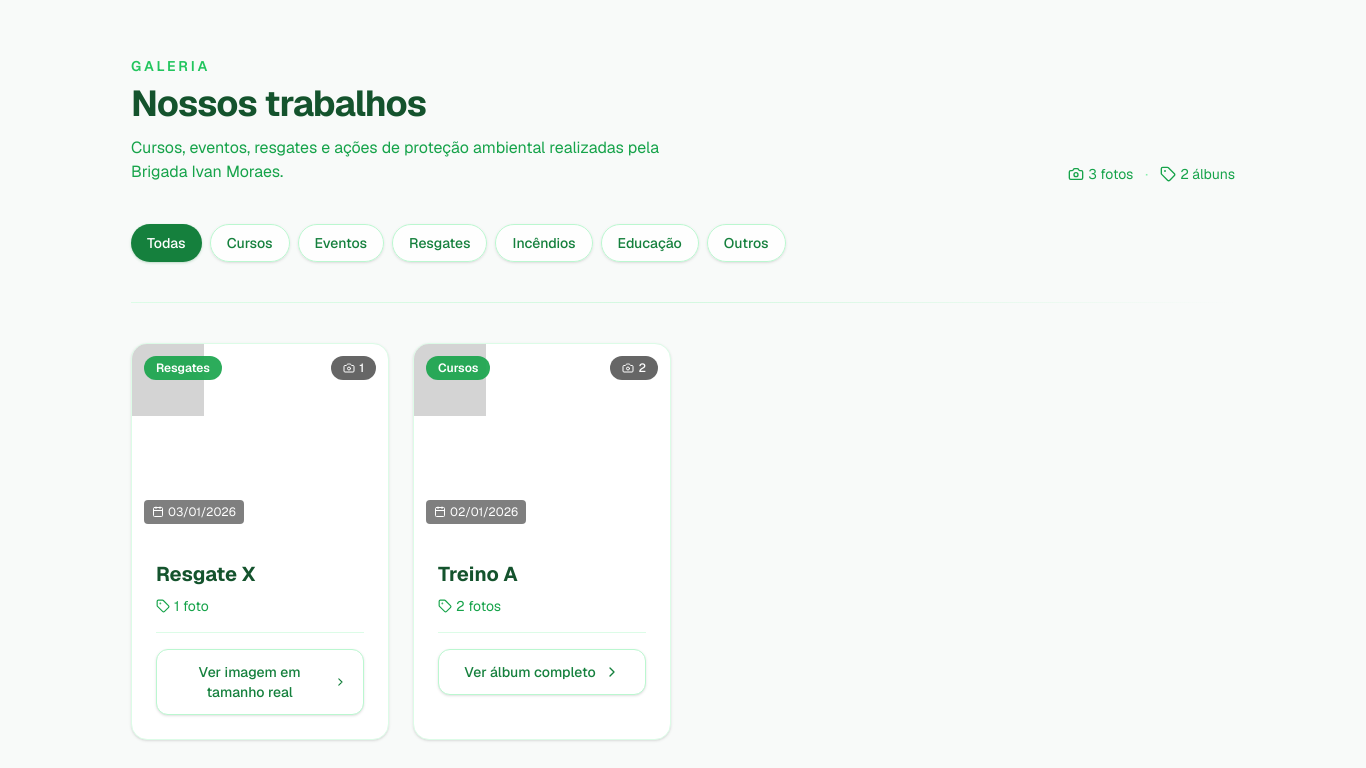
Test: Gallery › atualiza fotos e álbuns ao filtrar por categoria
Expected: the heading "Treino A" is shown, [438,561,518,587]
Click the button "Cursos": (250, 243) [210,224,290,262]
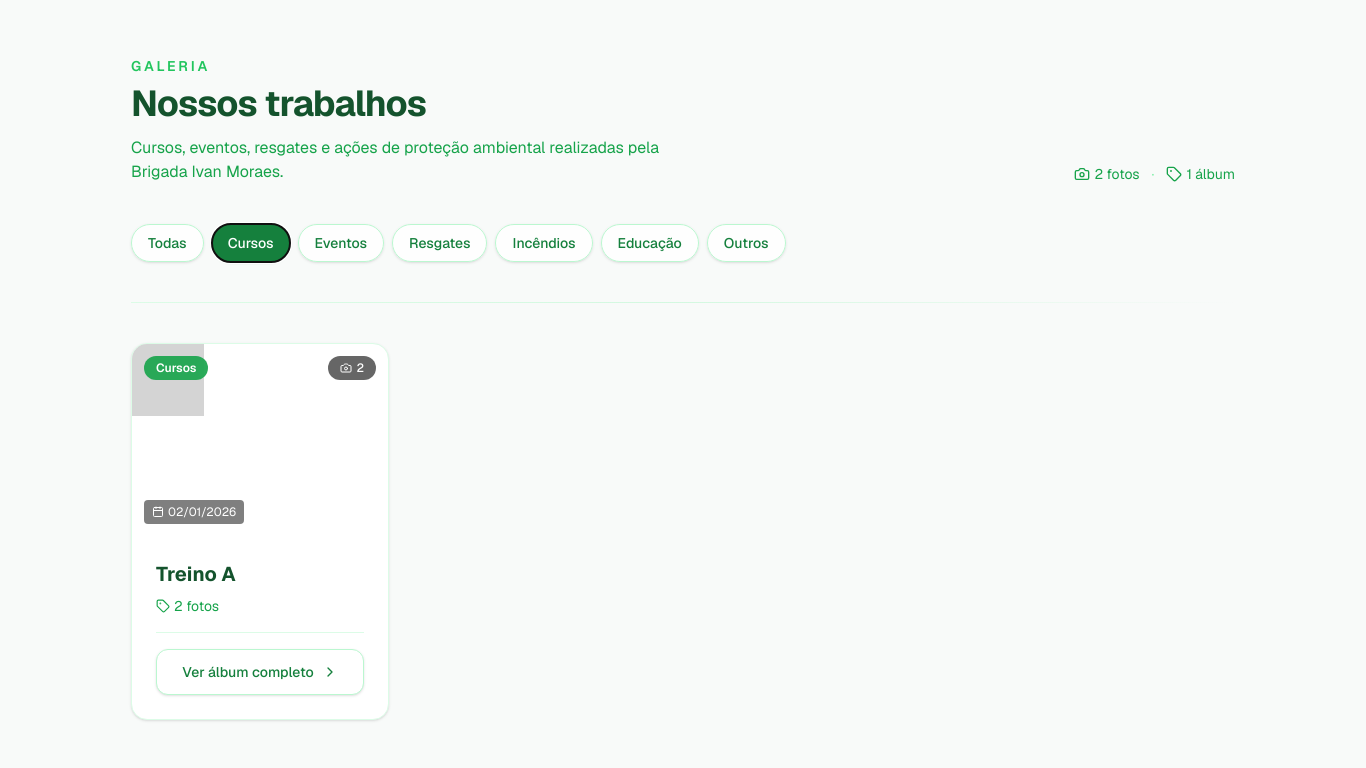
Expected: the text "2 fotos" in the row of "Brigada Ivan Moraes" is shown, [1074,164,1140,184]
Expected: the text "1 álbum" is shown, [1166,164,1235,184]
